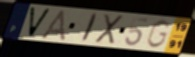5: (124, 17, 150, 47)
A: (38, 9, 67, 43)
G: (144, 19, 172, 50)
I: (79, 12, 100, 43)
V: (27, 6, 53, 39)
X: (93, 13, 125, 45)
